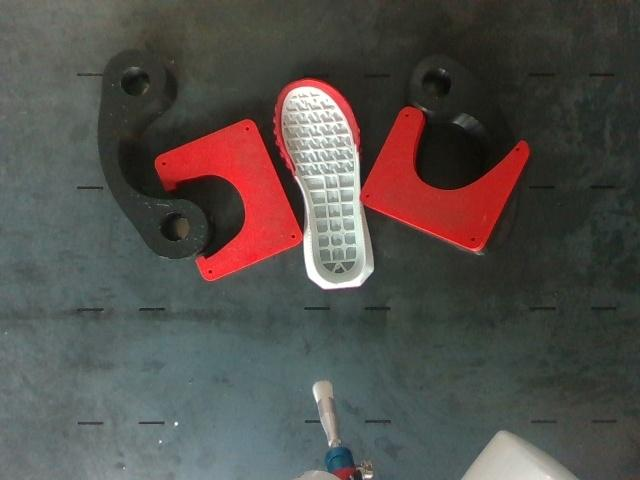shoes: (280, 82, 367, 285)
